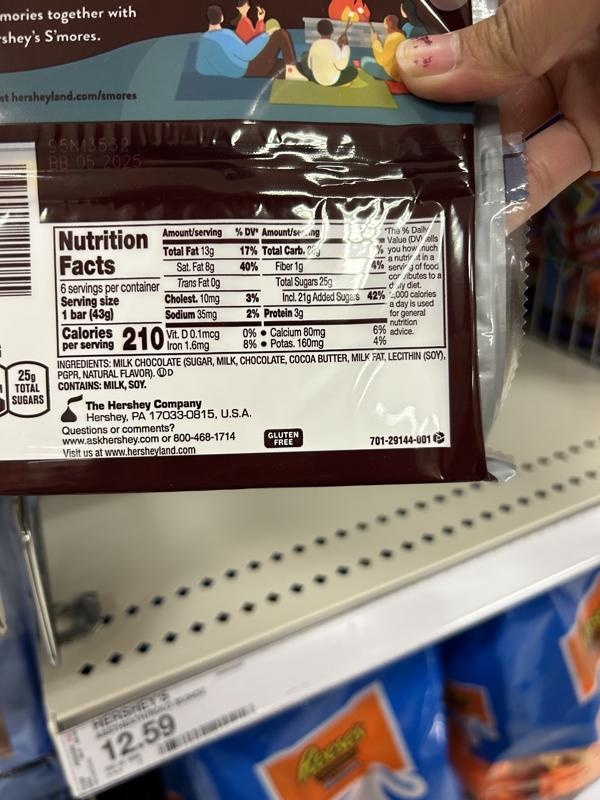ingredients: (54, 348, 447, 381)
